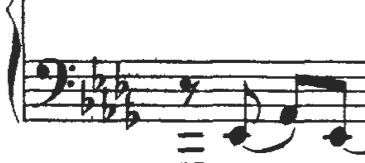flat: (120, 90, 145, 139), (109, 51, 131, 102), (77, 76, 99, 124), (91, 52, 109, 97), (100, 88, 118, 129)
treble_clef: (33, 54, 80, 110)
